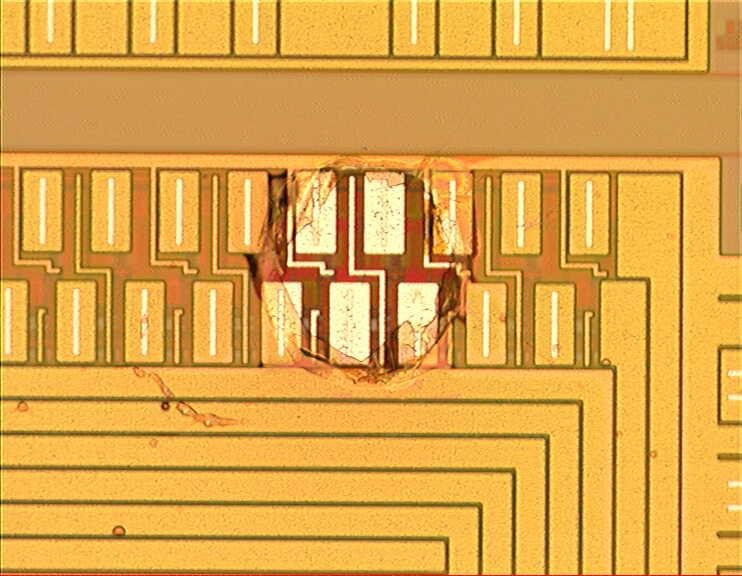BLOCK ETCH: (10, 148, 490, 543)
